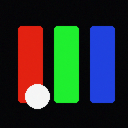2 circle: (25, 84, 49, 108)
